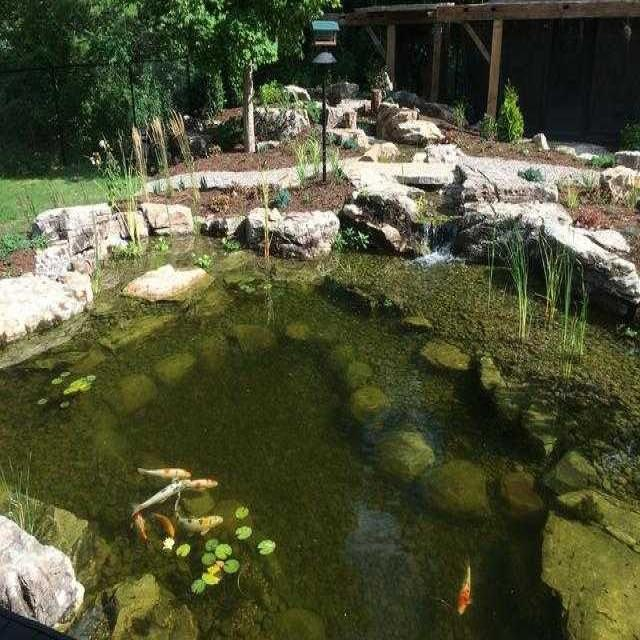Ponds: (2, 183, 640, 640)
